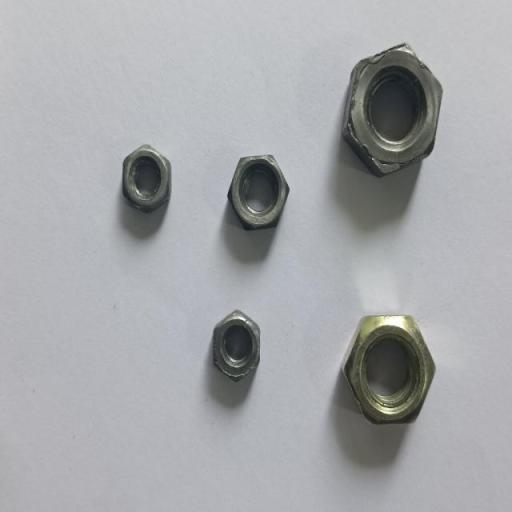Nut: (343, 42, 444, 178), (344, 314, 436, 424), (227, 154, 290, 231), (211, 309, 262, 381), (121, 144, 173, 213)
